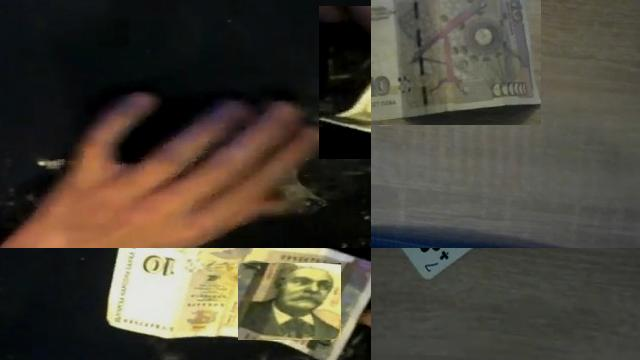10leva: (371, 0, 541, 122), (238, 263, 341, 339), (138, 248, 187, 280)
